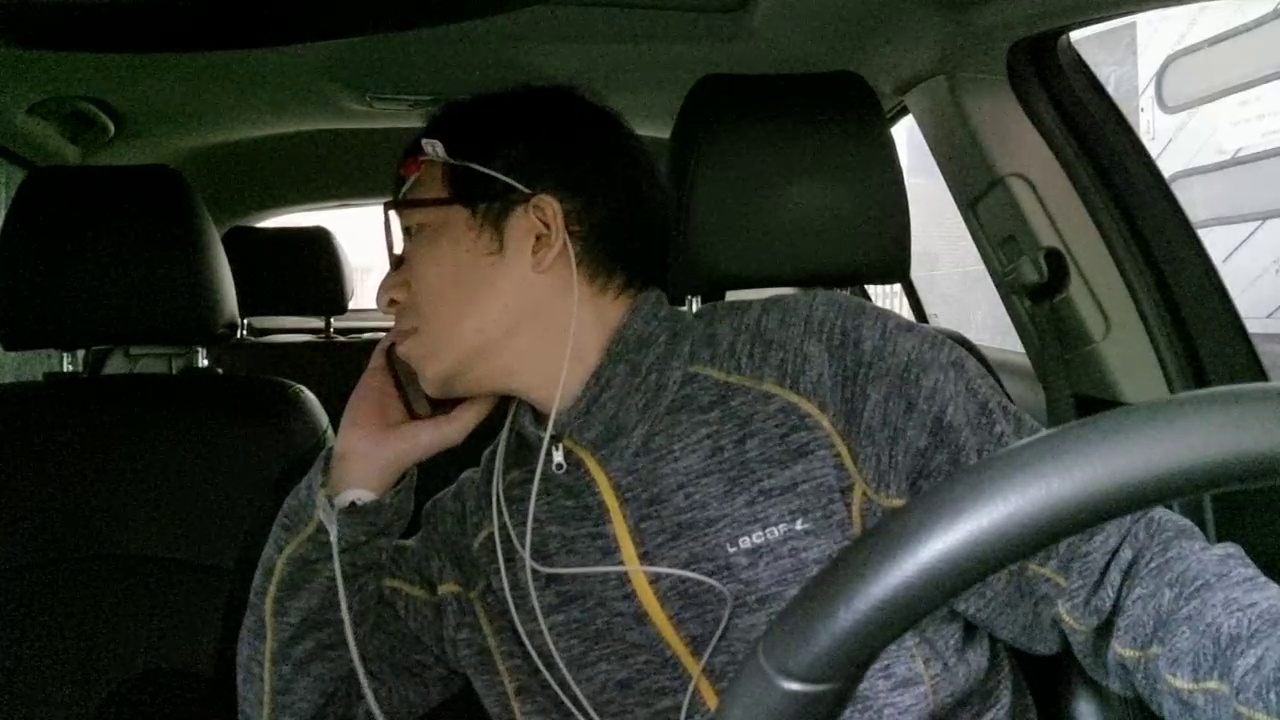phone: (350, 299, 497, 452)
